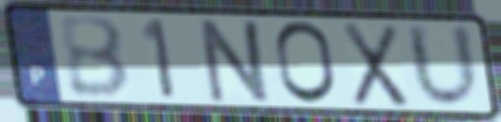1: (139, 16, 180, 103)
B: (55, 14, 134, 101)
N: (196, 17, 275, 106)
O: (272, 18, 340, 107)
U: (402, 20, 485, 112)
X: (339, 18, 411, 110)
